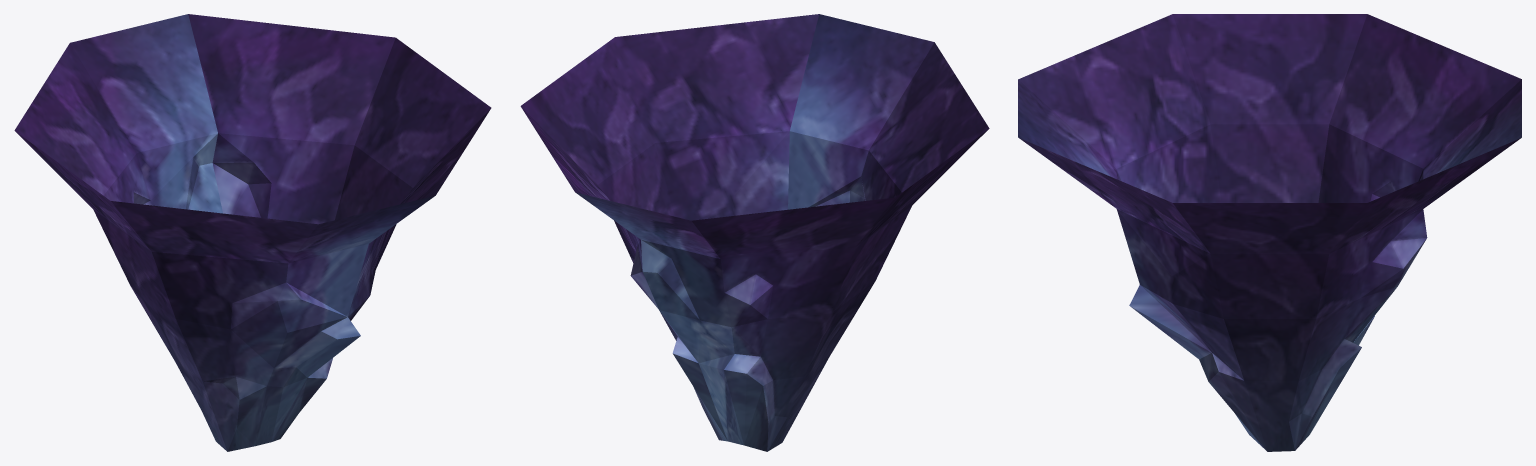
File: scenes_cave_road02a.FBX
The picture shows the model from 3 angles, left to right: view 1: azimuth 30°, elevation 25°; view 2: azimuth 150°, elevation 25°; view 3: azimuth 270°, elevation 25°; orthographic projection. The views are drawn at different scales.
Visible parts, largest first — view 1: scenes_cave_road02a; view 2: scenes_cave_road02a; view 3: scenes_cave_road02a.
Part boxes in pixels (x1,y1,x2,y2): scenes_cave_road02a: (14, 14, 491, 451); scenes_cave_road02a: (520, 14, 989, 451); scenes_cave_road02a: (1018, 14, 1521, 451).
Size of the model in its own units: 710 by 579 by 800.
